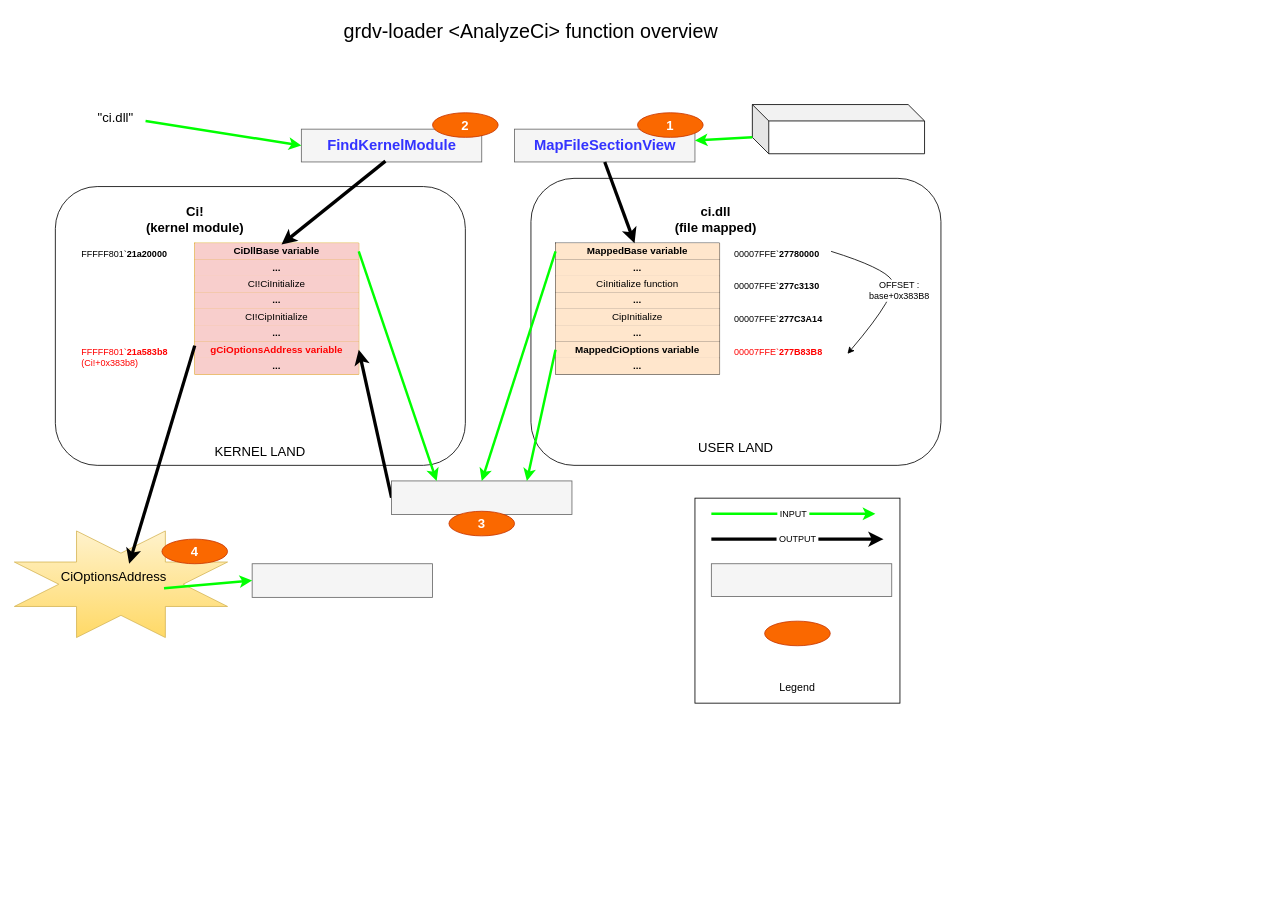
Some shapes in this 1275 by 913 pixel diagram are drawn without their labels. Here are the shapes that lost their labels. From the top down, the centre of each, then its label:
At point 838,129: "FILE C:\Windows\System32\ci.dll".
At point 481,497: "QueryCiOptions".
At point 342,580: "TriggerExploit".
At point 801,580: "gdrv-loader function".
At point 797,633: "Step X".
